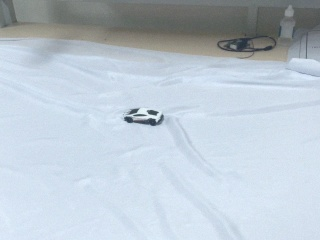bottle: (278, 5, 296, 46)
toy_car: (124, 108, 164, 125)
